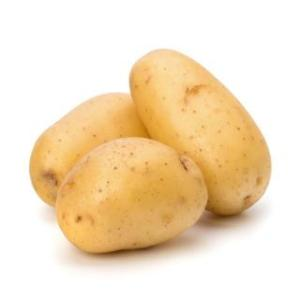potato: (131, 49, 272, 215), (55, 136, 205, 248), (31, 92, 148, 206)
